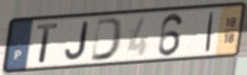4: (125, 14, 151, 59)
6: (157, 11, 184, 58)
D: (89, 16, 126, 63)
I: (204, 11, 216, 53)
J: (63, 20, 91, 61)
T: (35, 22, 60, 65)
